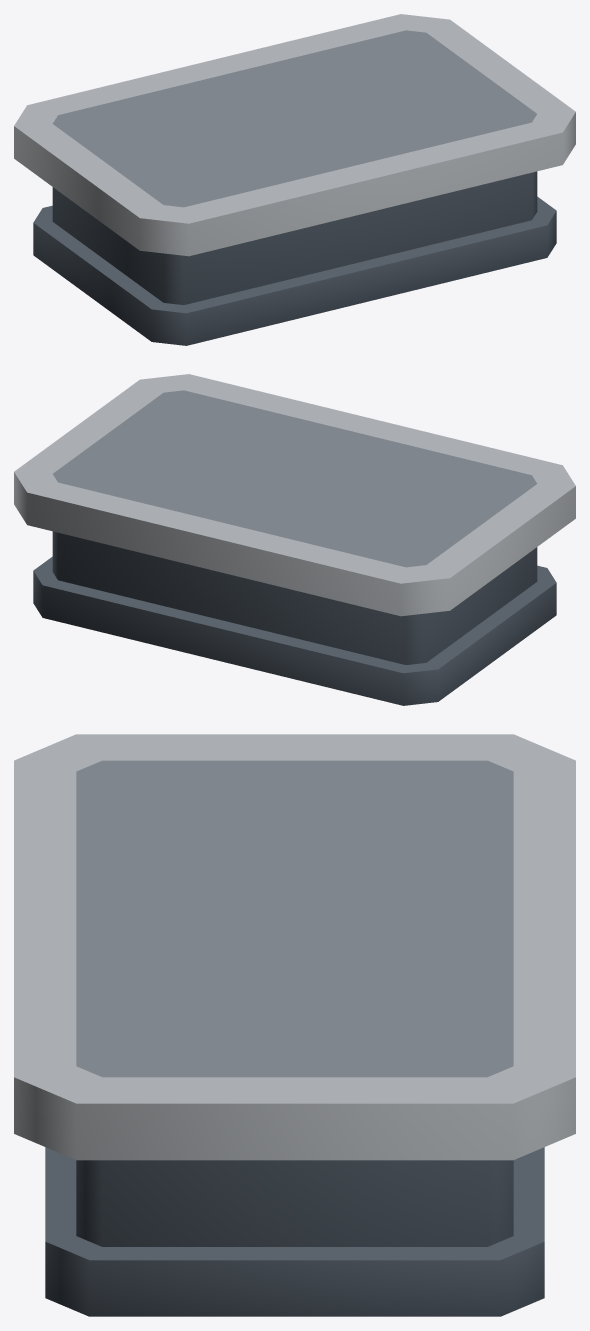
The model's file is table-large.glb.
3 views of the same model, one above another, from view 1: azimuth 30°, elevation 25°; view 2: azimuth 150°, elevation 25°; view 3: azimuth 270°, elevation 25° (orthographic). The views are drawn at different scales.
Visible parts, largest first — view 1: table-large; view 2: table-large; view 3: table-large.
Boxes of the visible parts, x1,y1,x2,y2 form: table-large: [14, 14, 575, 345]; table-large: [14, 374, 575, 705]; table-large: [14, 734, 575, 1316].
Bounding box in the file's own units: 1.4 × 0.4 × 0.9001.
